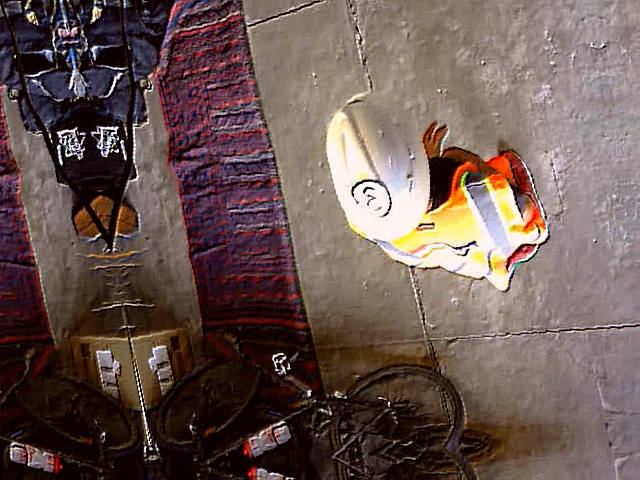three: (349, 179, 393, 219)
